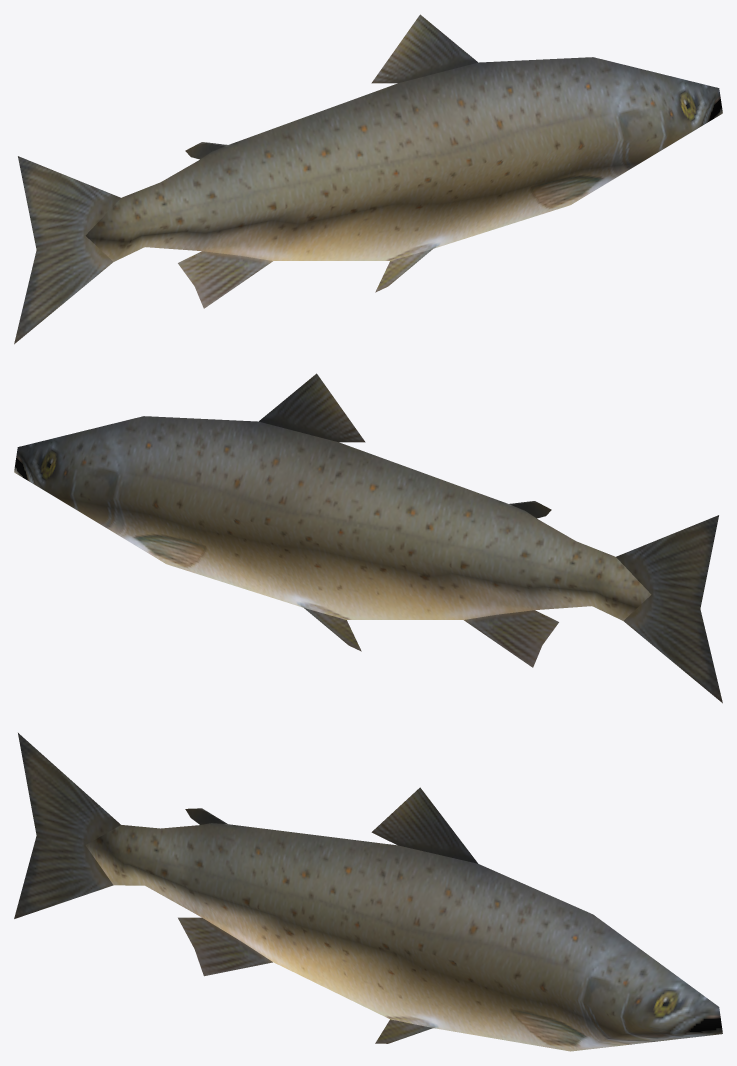
The model's file is salmon.obj.
3 renders of one model, top to bottom at view 1: azimuth 30°, elevation 25°; view 2: azimuth 150°, elevation 25°; view 3: azimuth 330°, elevation 25°, orthographic.
Bounding box in the file's own units: 3.28 × 1.18 × 0.4107.
Materials: 1 (1 with a texture image).
